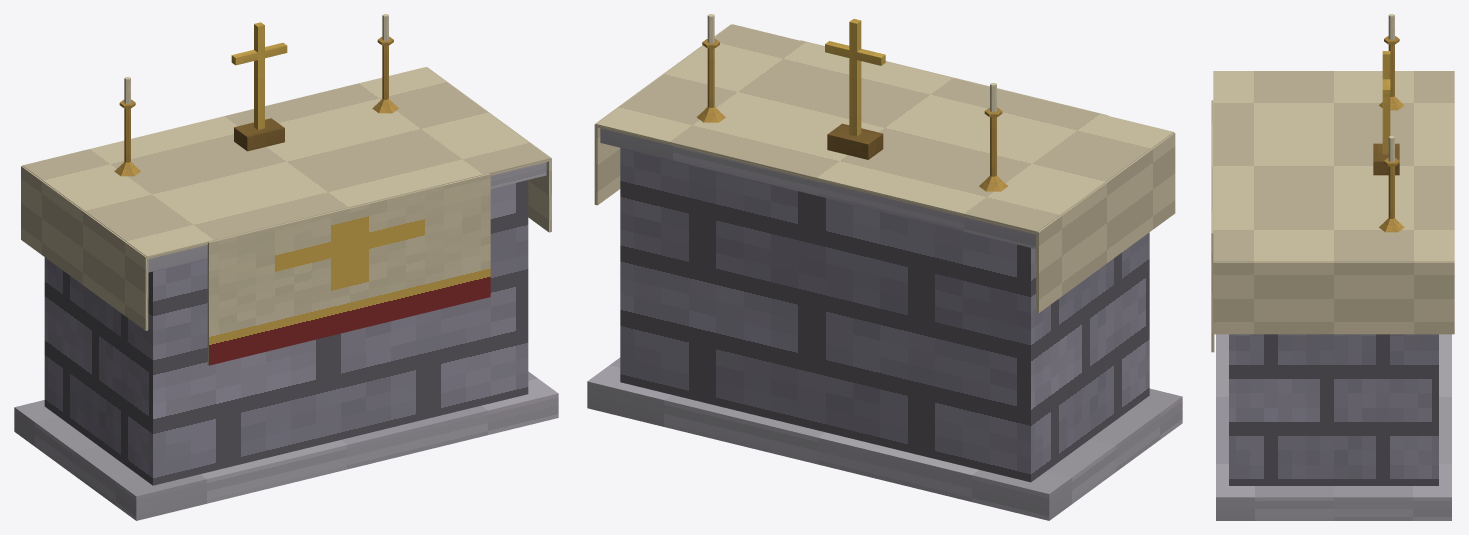
Rendered from altar.glb.
3 views of the same model, side by side, from view 1: azimuth 30°, elevation 25°; view 2: azimuth 150°, elevation 25°; view 3: azimuth 270°, elevation 25° (orthographic). The views are drawn at different scales.
Visible parts, largest first — view 1: altar.001; view 2: altar.001; view 3: altar.001.
Boxes of the visible parts, x1,y1,x2,y2 form: altar.001: (14,14,558,520); altar.001: (587,14,1182,520); altar.001: (1211,14,1454,520).
Size of the model in its own units: 1.8 by 1.55 by 0.928.
1 material, 1 textured.
